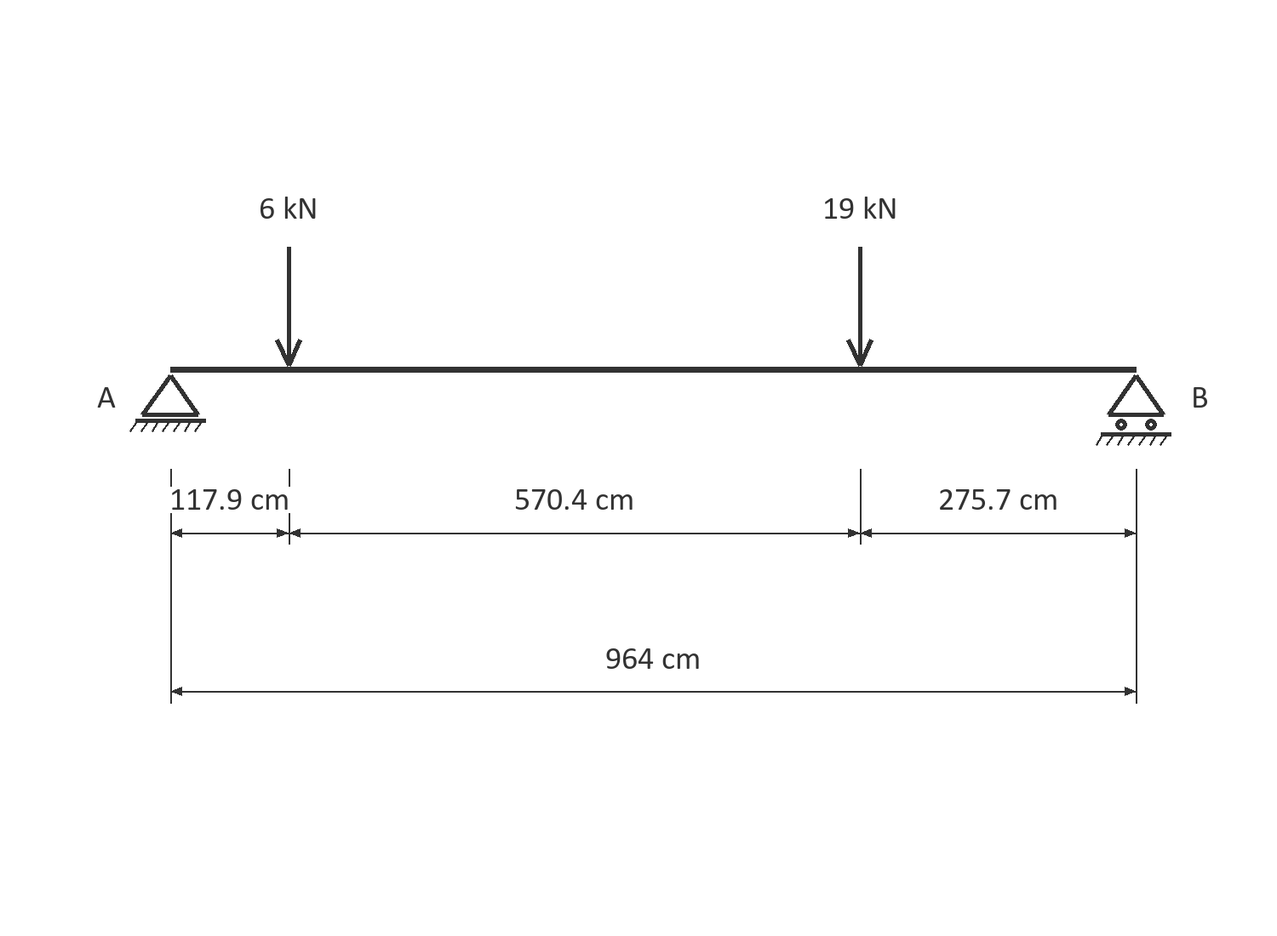pin_support: (129, 374, 206, 432)
point_load: (275, 247, 302, 367), (846, 247, 873, 367)
roller_support: (1096, 374, 1171, 446)
